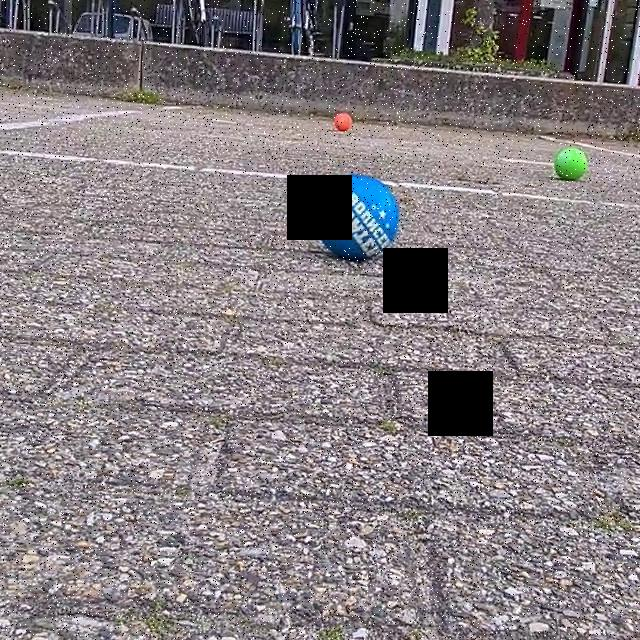ball: (552, 144, 590, 186), (332, 109, 354, 137)
